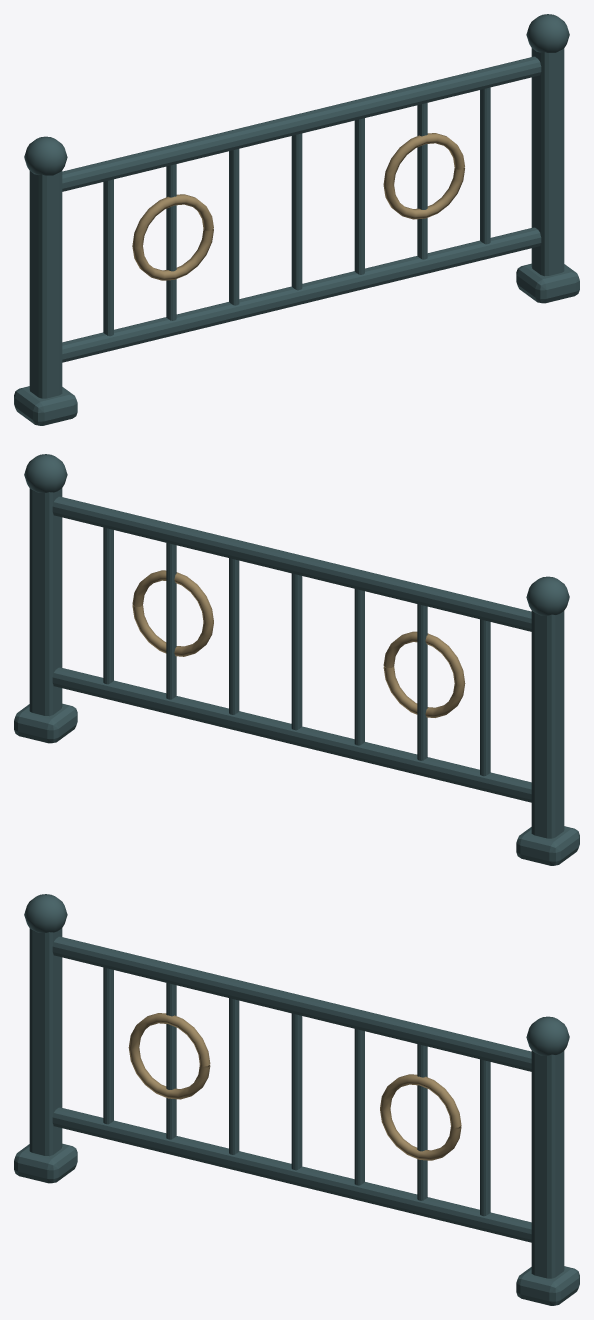
The model's file is RailingSalacak.glb.
3 renders of one model, top to bottom at view 1: azimuth 30°, elevation 25°; view 2: azimuth 150°, elevation 25°; view 3: azimuth 330°, elevation 25°, orthographic.
Visible parts, largest first — view 1: RK_RailingSalacak_RailingSalacak_Paint, RK_RailingSalacak_RailingSalacak_Accent; view 2: RK_RailingSalacak_RailingSalacak_Paint, RK_RailingSalacak_RailingSalacak_Accent; view 3: RK_RailingSalacak_RailingSalacak_Paint, RK_RailingSalacak_RailingSalacak_Accent.
Boxes of the visible parts, x1,y1,x2,y2 form: RK_RailingSalacak_RailingSalacak_Paint: (14,14,579,425); RK_RailingSalacak_RailingSalacak_Accent: (132,133,464,280); RK_RailingSalacak_RailingSalacak_Paint: (14,454,579,865); RK_RailingSalacak_RailingSalacak_Accent: (132,570,465,717); RK_RailingSalacak_RailingSalacak_Paint: (14,894,579,1305); RK_RailingSalacak_RailingSalacak_Accent: (128,1013,461,1160).
Bounding box in the file's own units: 2.61 × 1.26 × 0.22.
